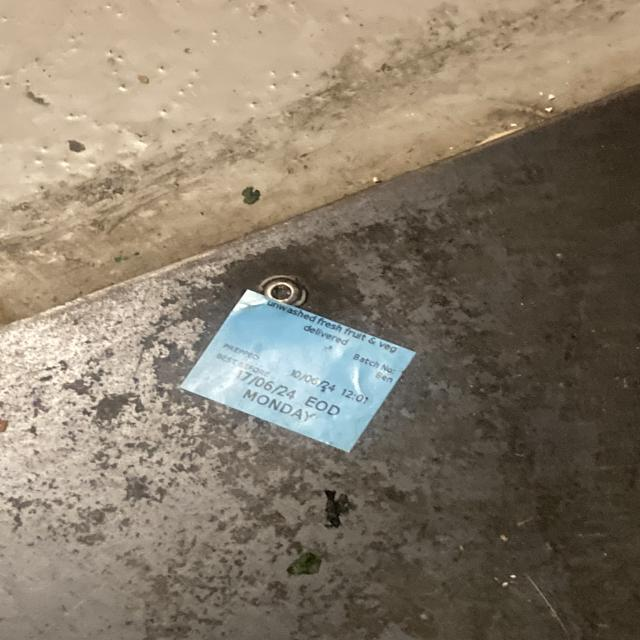product-labels: (178, 279, 417, 463)
